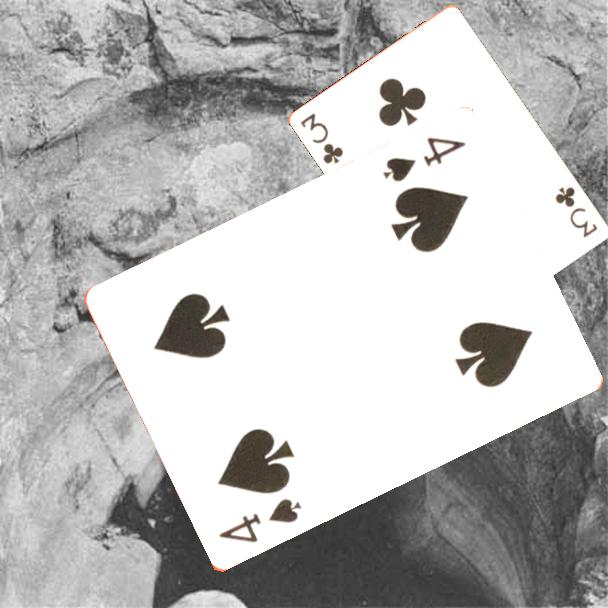c03: (297, 110, 347, 167), (552, 183, 601, 241)
s04: (215, 495, 305, 547), (379, 134, 469, 186)
